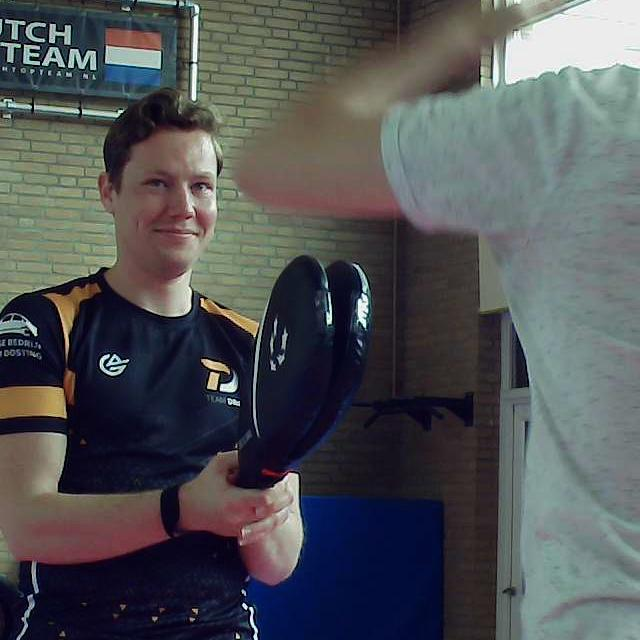paddle: (232, 258, 376, 487)
